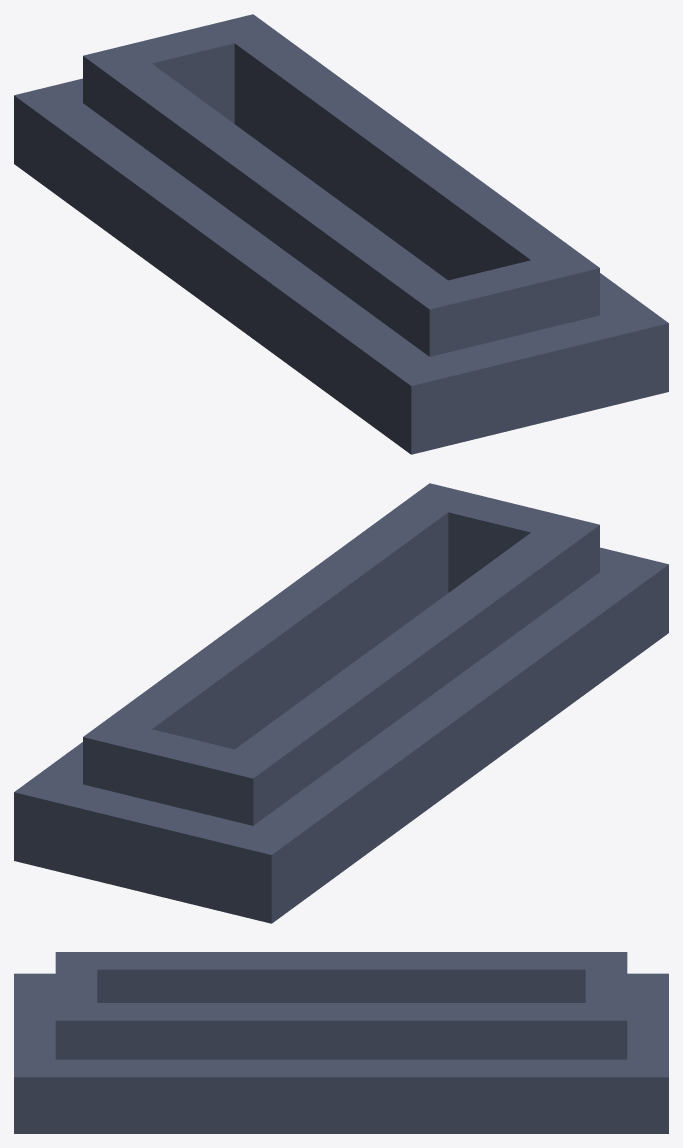
File: Leverbody.fbx
The picture shows the model from 3 angles, top to bottom: view 1: azimuth 30°, elevation 25°; view 2: azimuth 150°, elevation 25°; view 3: azimuth 270°, elevation 25°; orthographic projection. The views are drawn at different scales.
Visible parts, largest first — view 1: lever base; view 2: lever base; view 3: lever base.
Part boxes in pixels (x1,y1,x2,y2): lever base: (14, 14, 668, 454); lever base: (14, 483, 668, 923); lever base: (14, 952, 668, 1133).
Bounding box in the file's own units: 54.08 × 23.27 × 144.
